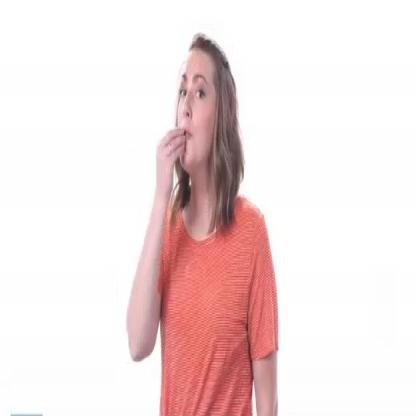Food: (157, 35, 242, 222)
